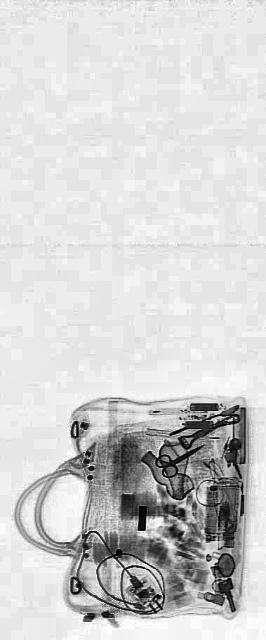Scissors: (154, 431, 204, 485)
